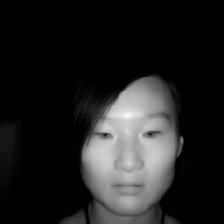normal: (70, 65, 185, 219)
